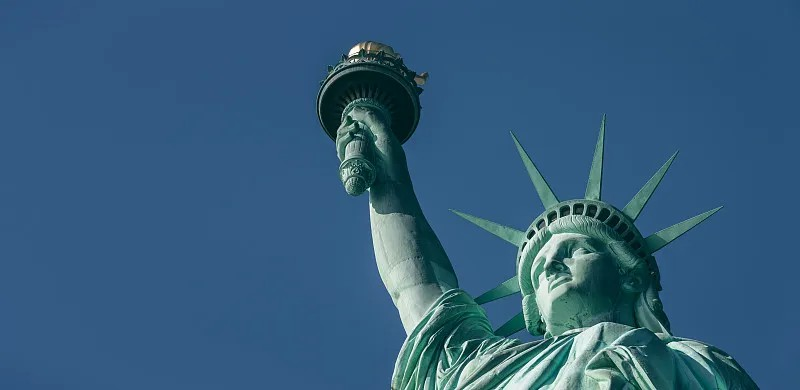SL: (315, 41, 761, 390)
